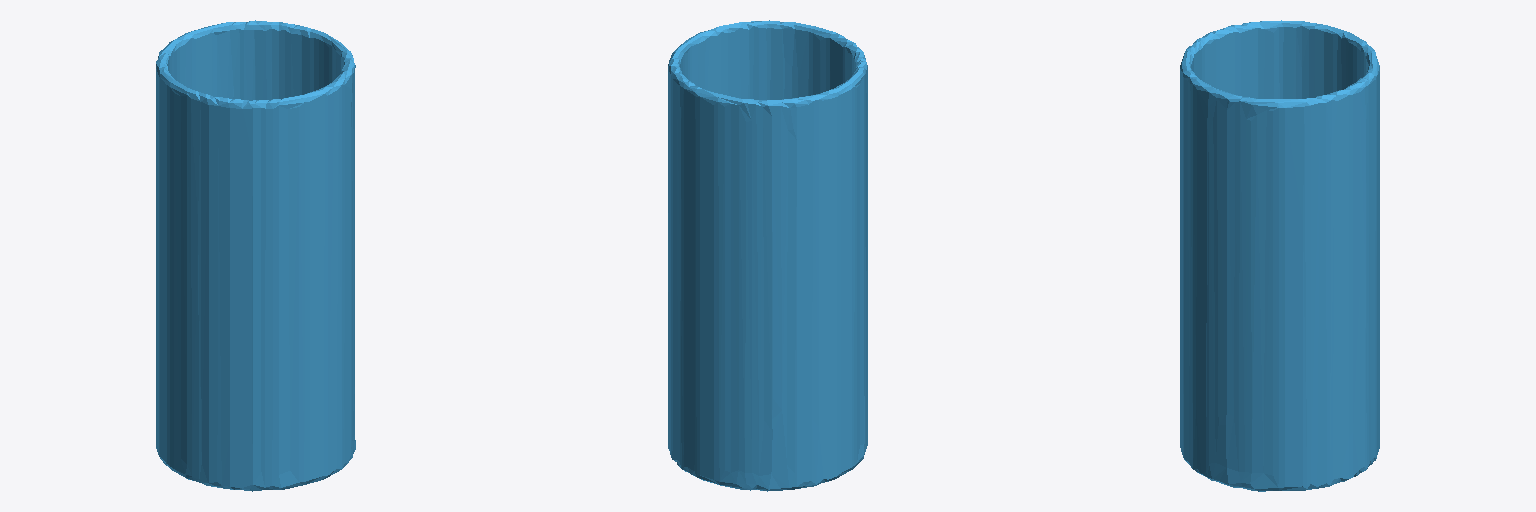
robot.urdf — Cup_97aa1929318460e69dfbd41352e3517a_M:
<?xml version="1.0"?>
<robot name="Cup_97aa1929318460e69dfbd41352e3517a_M">
  <link name="base"/>
  <link name="link_0">
  <visual>
    <origin xyz="0.0 0.0 0.0"/>
    <geometry>
      <mesh filename="Cup_97aa1929318460e69dfbd41352e3517a_M.obj" scale="1.0 1.0 1.0"/>
    </geometry>
  </visual>
  <collision>
    <origin xyz="0.0 0.0 0.0"/>
    <geometry>
      <mesh filename="collision.obj" scale="1.0 1.0 1.0"/>
    </geometry>
  </collision>
  </link>
  <joint name="joint_0" type="fixed">
    <origin rpy="0 0 0" xyz="0 0 0"/>
    <child link="link_0"/>
    <parent link="base"/>
  </joint>
</robot>

--- What the picture shows (computed from the rendered views, not written in the file) ---
3 views of the same robot in one strip: view 1: azimuth 30°, elevation 25°; view 2: azimuth 150°, elevation 25°; view 3: azimuth 270°, elevation 25° (orthographic).
Model Cup_97aa1929318460e69dfbd41352e3517a_M with 2 links and 1 joints (1 fixed), rooted at base, posed all joints at 0.
Links seen in each view (by area): view 1: link_0; view 2: link_0; view 3: link_0.
Boxes of the visible links, x1,y1,x2,y2 form: link_0: (156,20,355,491); link_0: (668,20,867,491); link_0: (1180,20,1379,491).
Bounding box of the posed robot: 0.0419 × 0.0419 × 0.091 m (x, y, z).
1 mesh visuals loaded from 1 distinct referenced files (1 OBJ).